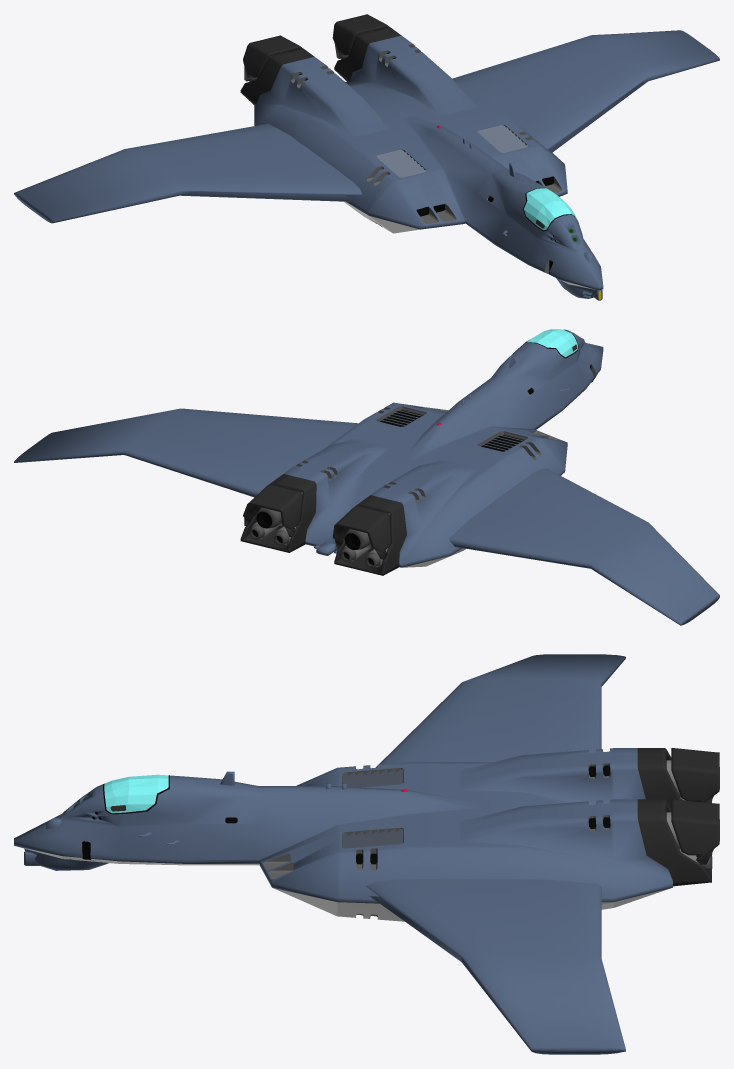
The model's file is Fighter2.obj.
3 renders of one model, top to bottom at view 1: azimuth 30°, elevation 25°; view 2: azimuth 150°, elevation 25°; view 3: azimuth 270°, elevation 25°, orthographic. The views are drawn at different scales.
Parts seen in each view (by area): view 1: Fighter2; view 2: Fighter2; view 3: Fighter2.
Part boxes in pixels (x1,y1,x2,y2): Fighter2: (14,14,719,300); Fighter2: (14,329,719,625); Fighter2: (14,654,719,1054).
Size of the model in its own units: 2.39 by 0.304 by 1.82.
